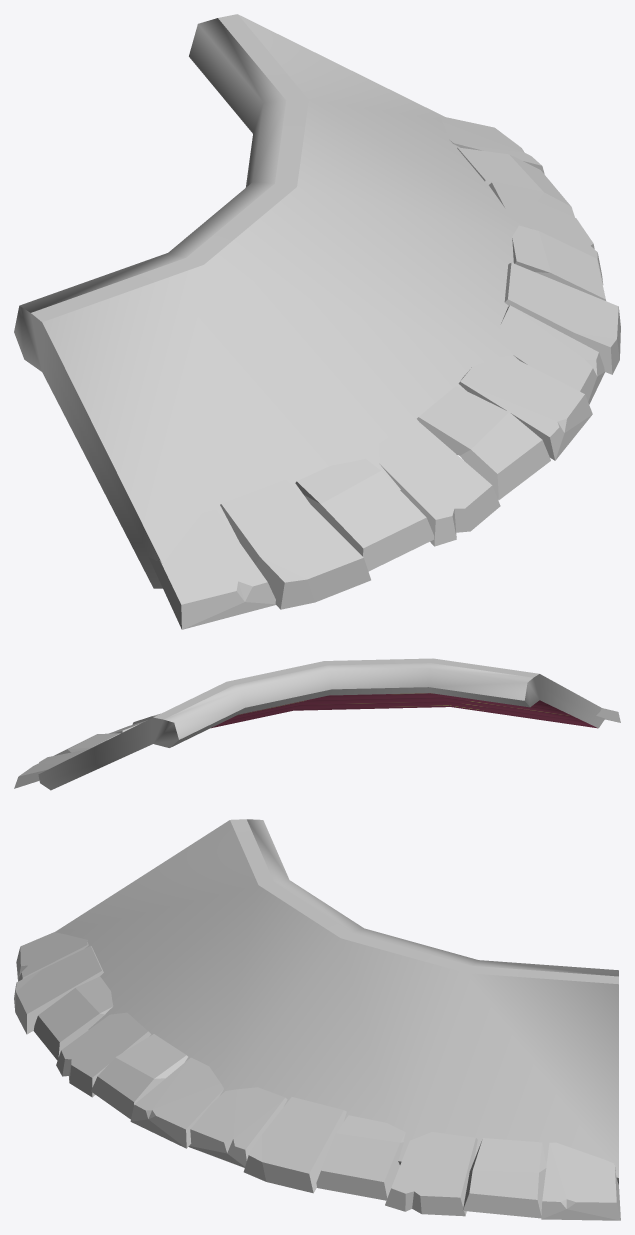
Rendered from SM_Bld_Roof_Trim_Corner_Out_02.fbx.
3 views of the same model, one above another, from view 1: azimuth 30°, elevation 25°; view 2: azimuth 150°, elevation 25°; view 3: azimuth 270°, elevation 25° (orthographic). The views are drawn at different scales.
Visible parts, largest first — view 1: SM_Bld_Roof_Trim_Corner_Out_02; view 2: SM_Bld_Roof_Trim_Corner_Out_02; view 3: SM_Bld_Roof_Trim_Corner_Out_02.
Part boxes in pixels (<box>): SM_Bld_Roof_Trim_Corner_Out_02: <box>14,14,620,629</box>; SM_Bld_Roof_Trim_Corner_Out_02: <box>14,658,620,790</box>; SM_Bld_Roof_Trim_Corner_Out_02: <box>14,819,620,1220</box>.
Bounding box in the file's own units: 413 × 112 × 408.
